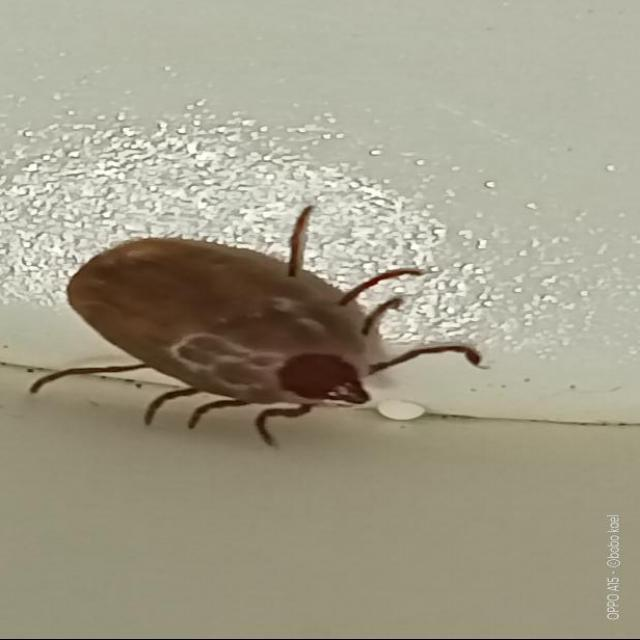Rhipicephalus Sanguineus-F-Fed: (31, 207, 483, 449)
